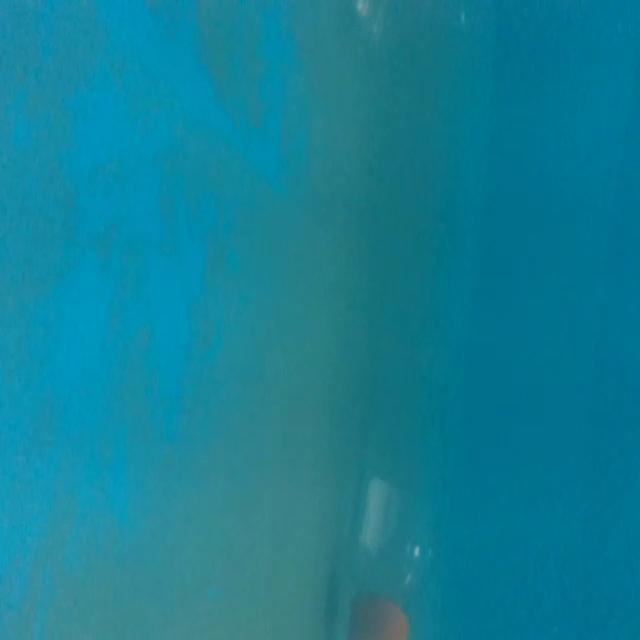plastic bottle: (342, 309, 453, 636)
